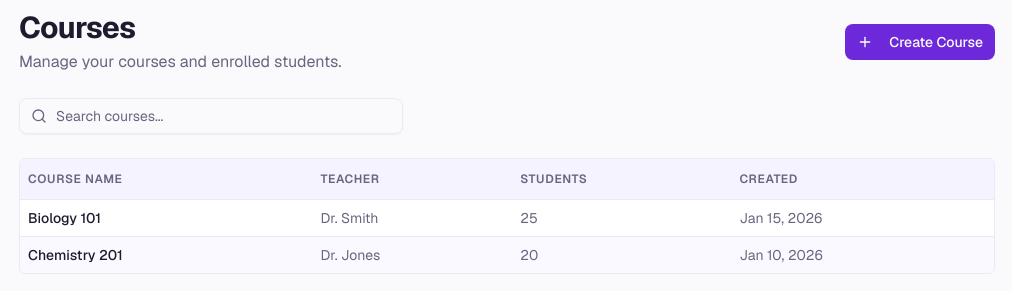
Test: CoursesListView › filters courses by teacher name
Check: the text "Biology 101" is shown, box [20, 199, 313, 236]
Type "Jones" into the field with placeholder "Search courses..." at (211, 116), box [19, 98, 403, 134]
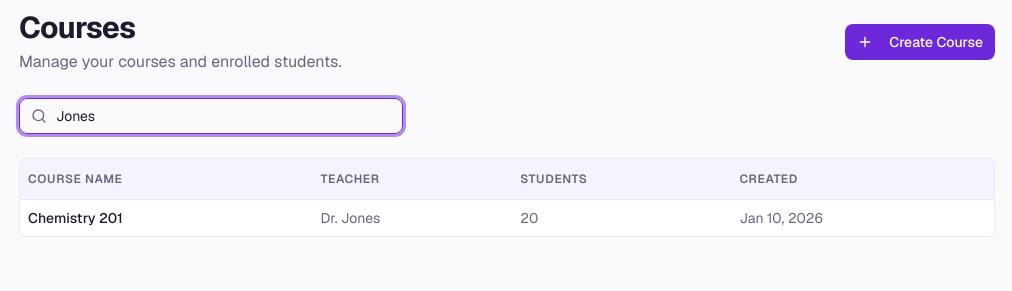
Check: the text "Chemistry 201" is shown, box [20, 199, 313, 236]
Check: the text "Biology 101" is gone
